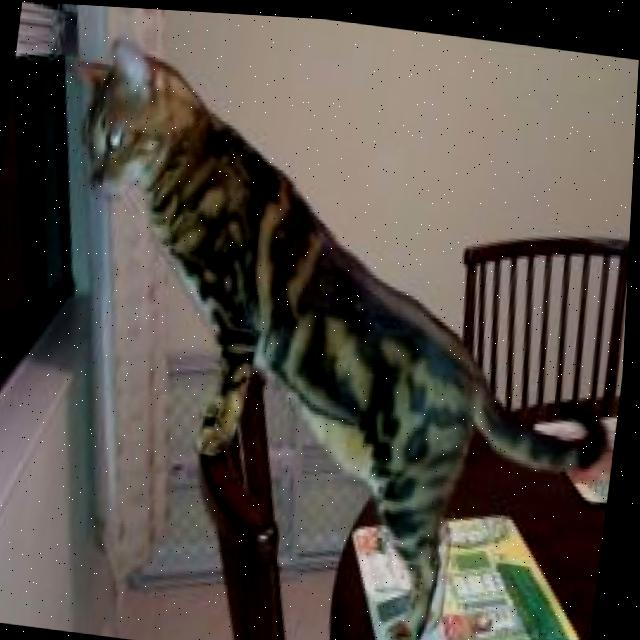Bengal: (17, 23, 639, 640)
